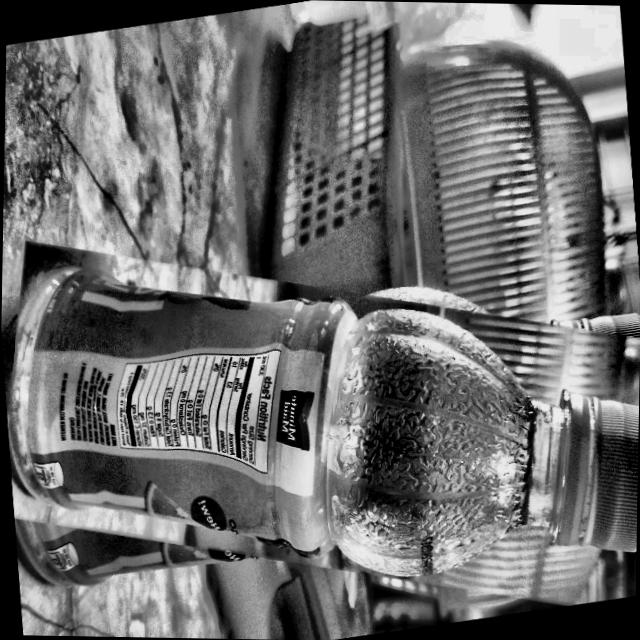Plastic-Bottle: (0, 187, 640, 640)
